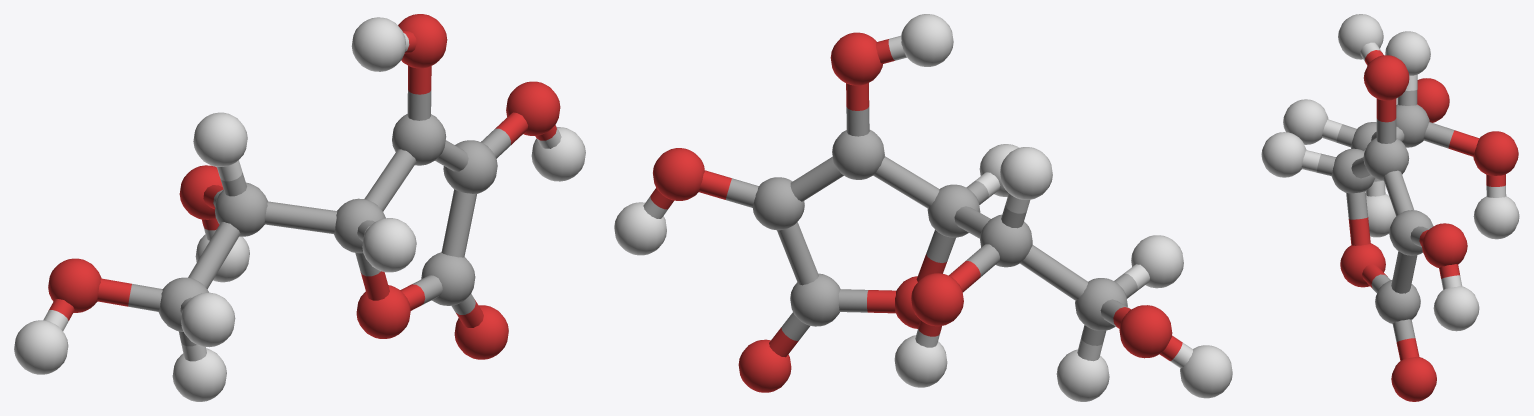
The model's file is vitamin-c-bas.glb.
3 renders of one model, left to right at view 1: azimuth 30°, elevation 25°; view 2: azimuth 150°, elevation 25°; view 3: azimuth 270°, elevation 25°, orthographic. The views are drawn at different scales.
Parts seen in each view (by area): view 1: vitamin-c-bas; view 2: vitamin-c-bas; view 3: vitamin-c-bas.
Boxes of the visible parts, x1=… form: vitamin-c-bas: x1=14, y1=14, x2=585, y2=401; vitamin-c-bas: x1=614, y1=14, x2=1232, y2=401; vitamin-c-bas: x1=1261, y1=14, x2=1519, y2=401.
Size of the model in its own units: 8.8 by 5.55 by 3.95.
